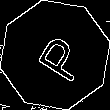P_NW: (24, 26, 86, 84)
